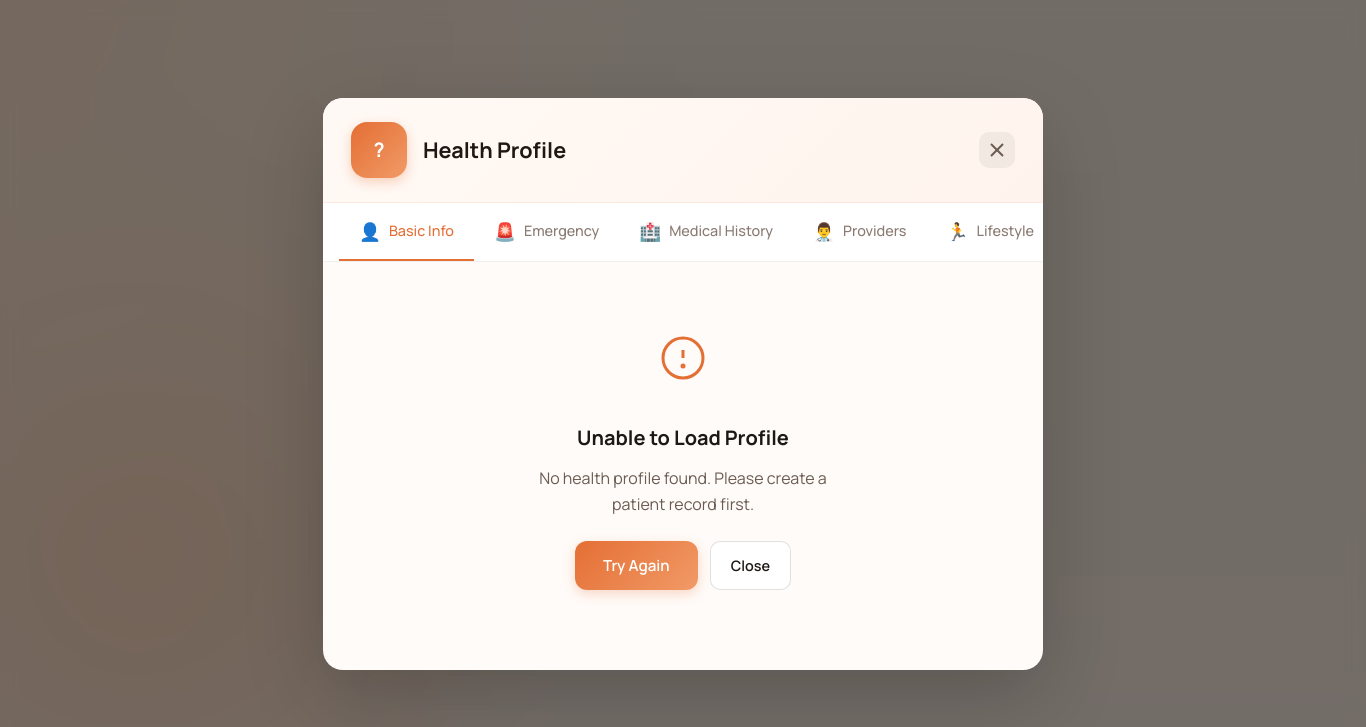
Scenario: ProfileModal › shows the error state and can retry loading
expect the heading "Unable to Load Profile" is shown: met, box x1=577 y1=422 x2=789 y2=454
Click the button "Try Again" at (636, 566), box x1=575 y1=541 x2=698 y2=590
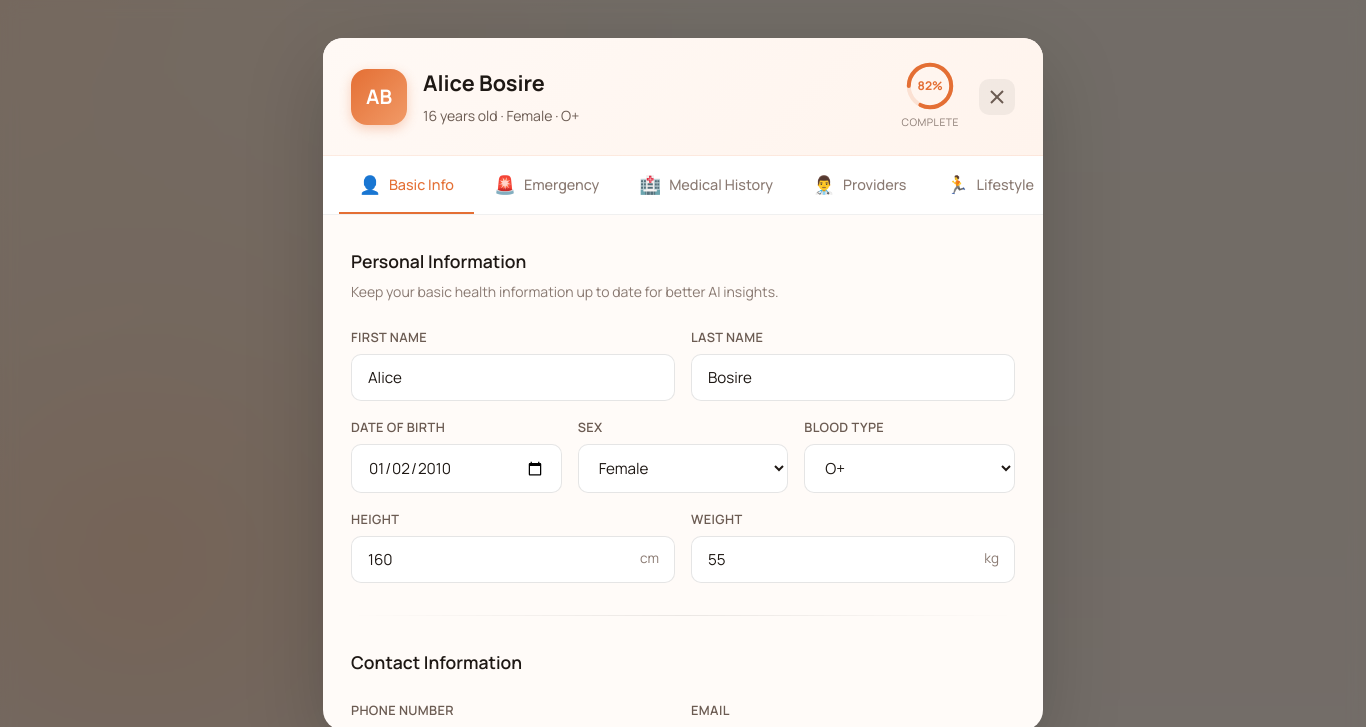
expect the field showing "Alice" below "First Name" is shown: met, box x1=351 y1=354 x2=675 y2=401
